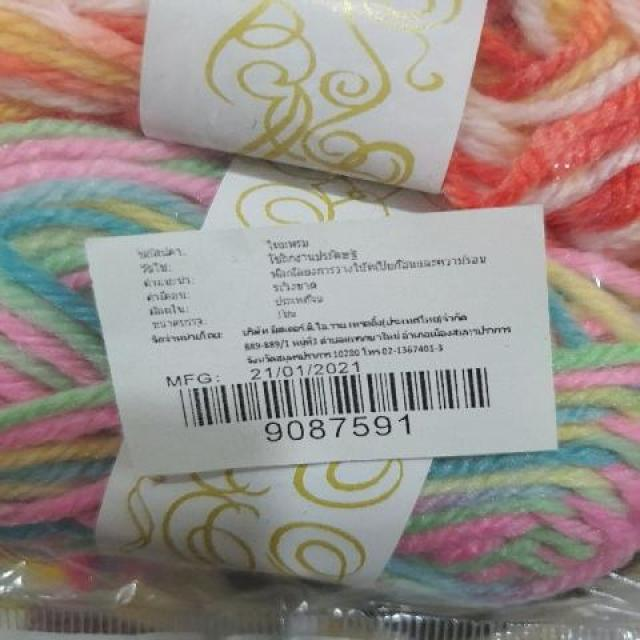Barcode: (150, 357, 514, 446)
